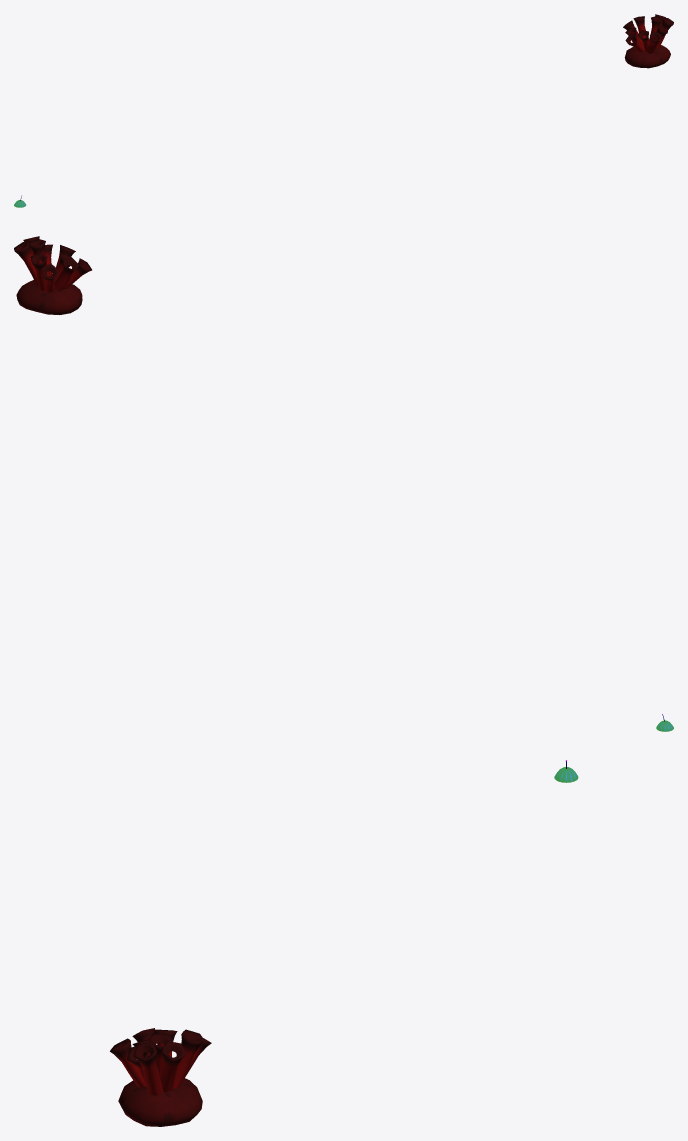
The model's file is candy_cane.glb.
The picture shows the model from 3 angles, top to bottom: view 1: azimuth 30°, elevation 25°; view 2: azimuth 150°, elevation 25°; view 3: azimuth 270°, elevation 25°; orthographic projection. The views are drawn at different scales.
Visible parts, largest first — view 1: Body; view 2: Body; view 3: Body.
Boxes of the visible parts, x1,y1,x2,y2 form: Body: [623, 14, 673, 68]; Body: [14, 236, 91, 314]; Body: [110, 1028, 211, 1126].
Bounding box in the file's own units: 63.18 × 14.33 × 23.15.
4 materials, 4 textured.
